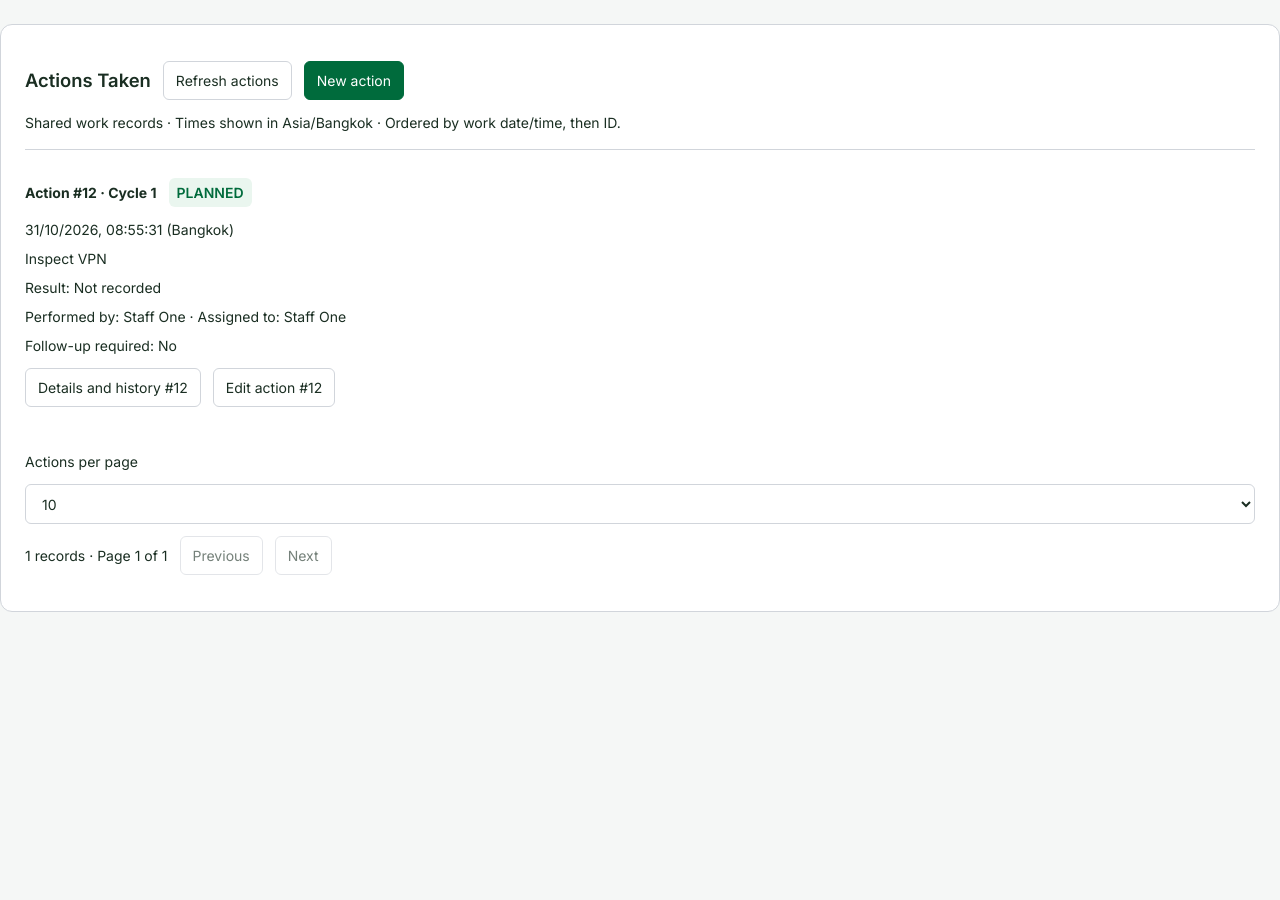
it: Actions Taken interface › displays human-readable assignment changes from public history snapshots
Click the button "Details and history #12": (113, 388) top-left (25, 368), bottom-right (201, 407)
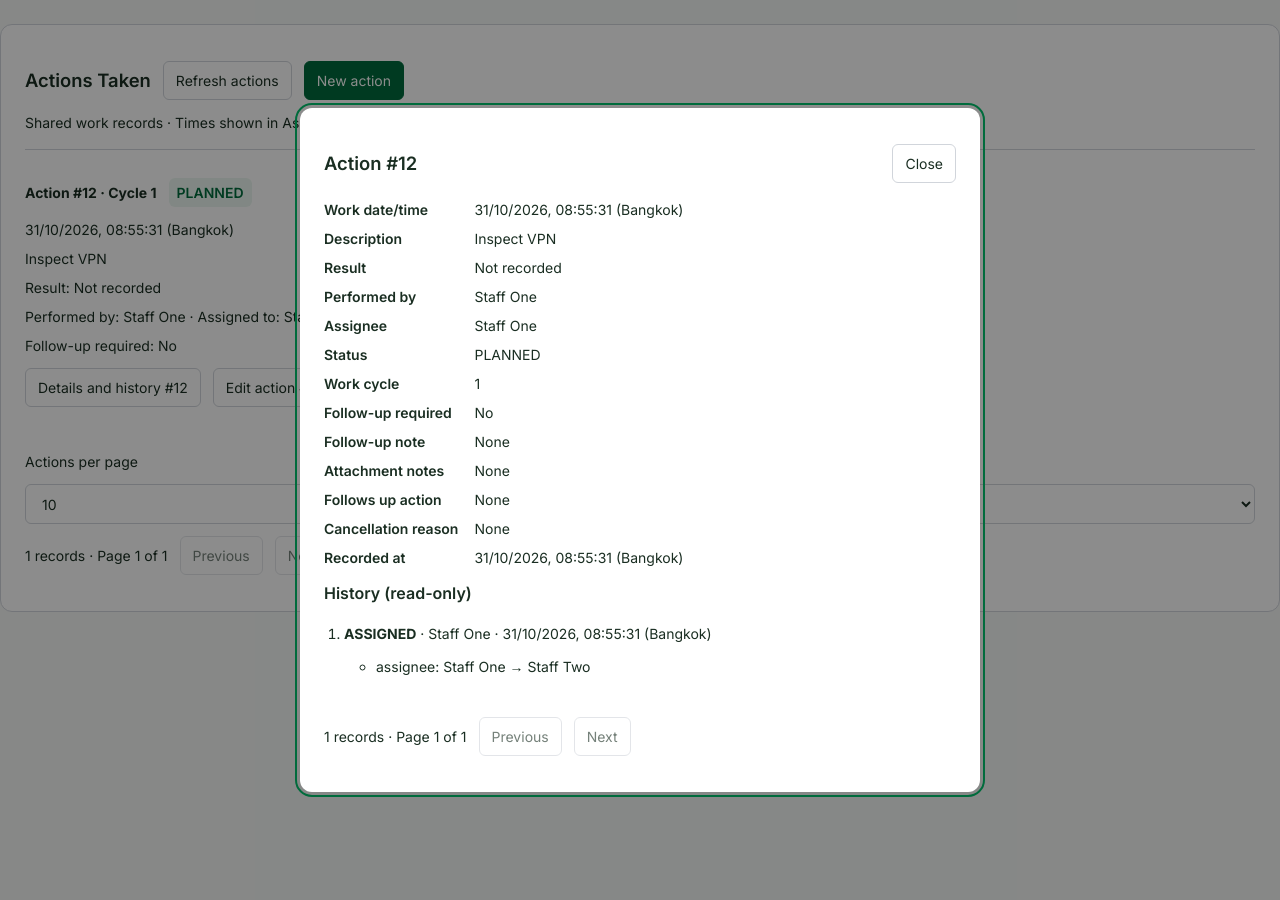
Expected: the list item "assignee: Staff One → Staff Two" is shown, top-left (376, 658), bottom-right (590, 675)
